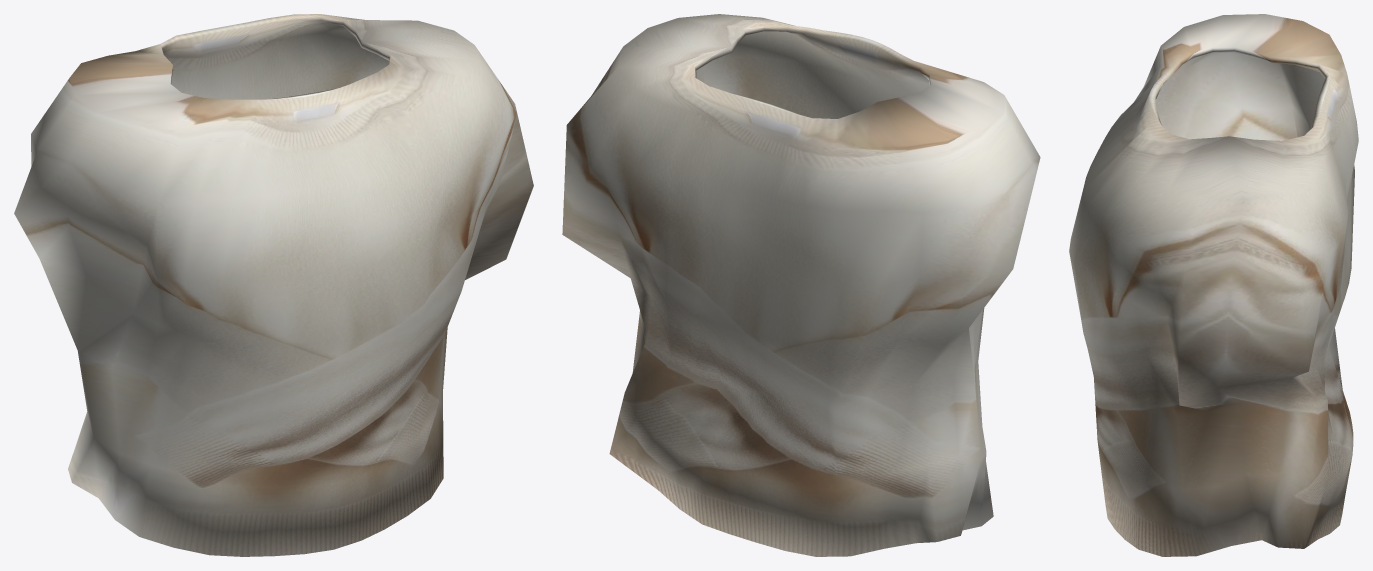
Rendered from bdf04733-ce2a-4a96-bd85-fcfde2002863.glb.
3 views of the same model, side by side, from view 1: azimuth 30°, elevation 25°; view 2: azimuth 150°, elevation 25°; view 3: azimuth 270°, elevation 25° (orthographic). The views are drawn at different scales.
Visible parts, largest first — view 1: garment; view 2: garment; view 3: garment.
Part boxes in pixels (<box>): garment: <box>14,14,533,556</box>; garment: <box>562,14,1040,556</box>; garment: <box>1069,14,1358,556</box>.
Bounding box in the file's own units: 0.5618 × 0.5059 × 0.3193.
Materials: 1 (1 with a texture image).
